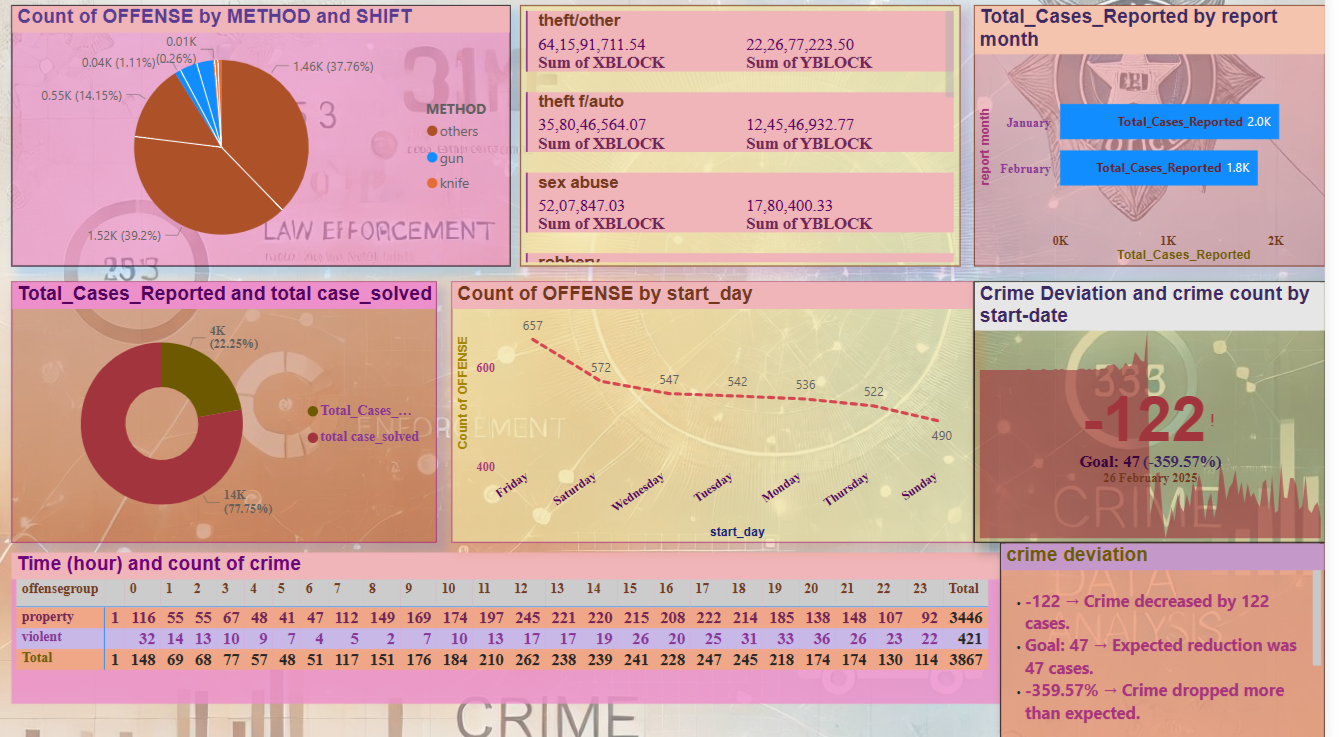

This screenshot's page, from the dashboard's own definition file:
{"tool":"powerbi","page":{"name":"Page 3","canvas":[1280,720],"ordinal":2},"visuals":[{"type":"pieChart","fields":{"Category":["Onyx Data -DataDNA Dataset Chal.METHOD"],"Y":["CountNonNull(Onyx Data -DataDNA Dataset Chal.OFFENSE)"],"Series":["Onyx Data -DataDNA Dataset Chal.SHIFT"]},"box":[12.1,10.9,481.2,252.1],"z":0},{"type":"multiRowCard","fields":{"Values":["Onyx Data -DataDNA Dataset Chal.OFFENSE","Sum(Onyx Data -DataDNA Dataset Chal.XBLOCK)","Sum(Onyx Data -DataDNA Dataset Chal.YBLOCK)"]},"box":[502.9,10.9,424.5,252.1],"z":1000},{"type":"clusteredBarChart","fields":{"Category":["Onyx Data -DataDNA Dataset Chal.report month"],"Y":["Onyx Data -DataDNA Dataset Chal.Total_Cases_Reported"]},"box":[940.7,10.9,338.9,252.1],"z":2000},{"type":"donutChart","fields":{"Y":["Onyx Data -DataDNA Dataset Chal.Total_Cases_Reported","Onyx Data -DataDNA Dataset Chal.total case_solved"]},"box":[12.1,277.4,410.1,252.1],"z":3000},{"type":"pivotTable","title":"Time (hour) and count of crime","fields":{"Rows":["Onyx Data -DataDNA Dataset Chal.offensegroup"],"Columns":["Onyx Data -DataDNA Dataset Chal.start -Hour"],"Values":["CountNonNull(Onyx Data -DataDNA Dataset Chal.OFFENSE)"]},"box":[12.1,539.1,954,145.9],"z":4000},{"type":"lineChart","fields":{"Category":["Onyx Data -DataDNA Dataset Chal.start_day"],"Y":["CountNonNull(Onyx Data -DataDNA Dataset Chal.OFFENSE)"]},"box":[436.6,277.4,504.1,252.1],"z":5000},{"type":"kpi","fields":{"Indicator":["Onyx Data -DataDNA Dataset Chal.Crime Deviation"],"Goal":["Onyx Data -DataDNA Dataset Chal.crime count"],"TrendLine":["Onyx Data -DataDNA Dataset Chal.start-date"]},"box":[941,277,339,252],"z":6000},{"type":"textbox","title":"crime deviation","box":[966,529.4,313.6,190.6],"z":7000}]}

Visuals, with their boxes in screenshot pixels (x1, y1, x2, y2), scaled from the page's 1280x720 canvas onto the 1341x737 screenshot:
pieChart - Onyx Data -DataDNA Dataset Chal.METHOD x CountNonNull(Onyx Data -DataDNA Dataset Chal.OFFENSE): 13/11/517/269
multiRowCard - Onyx Data -DataDNA Dataset Chal.OFFENSE x Sum(Onyx Data -DataDNA Dataset Chal.XBLOCK): 527/11/972/269
clusteredBarChart - Onyx Data -DataDNA Dataset Chal.report month x Onyx Data -DataDNA Dataset Chal.Total_Cases_Reported: 986/11/1340/269
donutChart - Onyx Data -DataDNA Dataset Chal.Total_Cases_Reported x Onyx Data -DataDNA Dataset Chal.total case_solved: 13/284/442/542
"Time (hour) and count of crime" pivotTable: 13/552/1012/701
lineChart - Onyx Data -DataDNA Dataset Chal.start_day x CountNonNull(Onyx Data -DataDNA Dataset Chal.OFFENSE): 457/284/986/542
kpi - Onyx Data -DataDNA Dataset Chal.Crime Deviation x Onyx Data -DataDNA Dataset Chal.crime count: 986/284/1340/541
"crime deviation" textbox: 1012/542/1340/736
